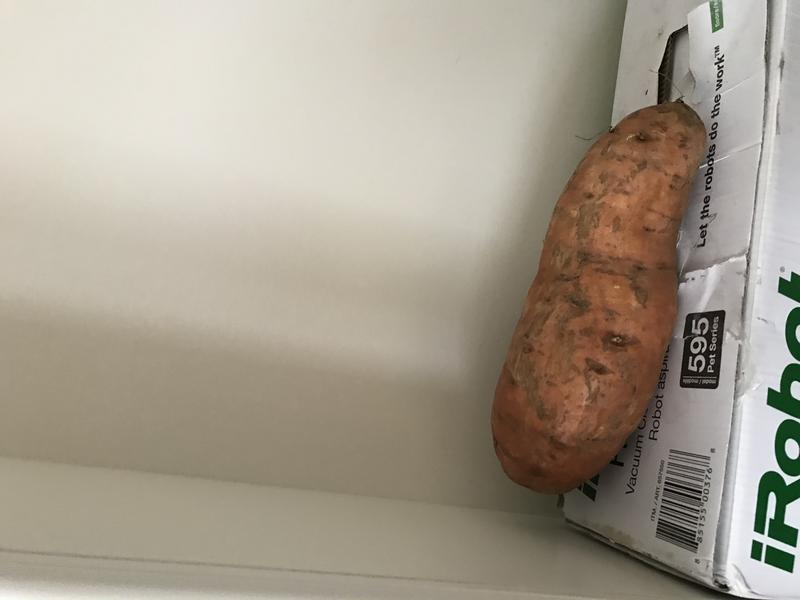sweet_potato: (471, 87, 720, 518)
